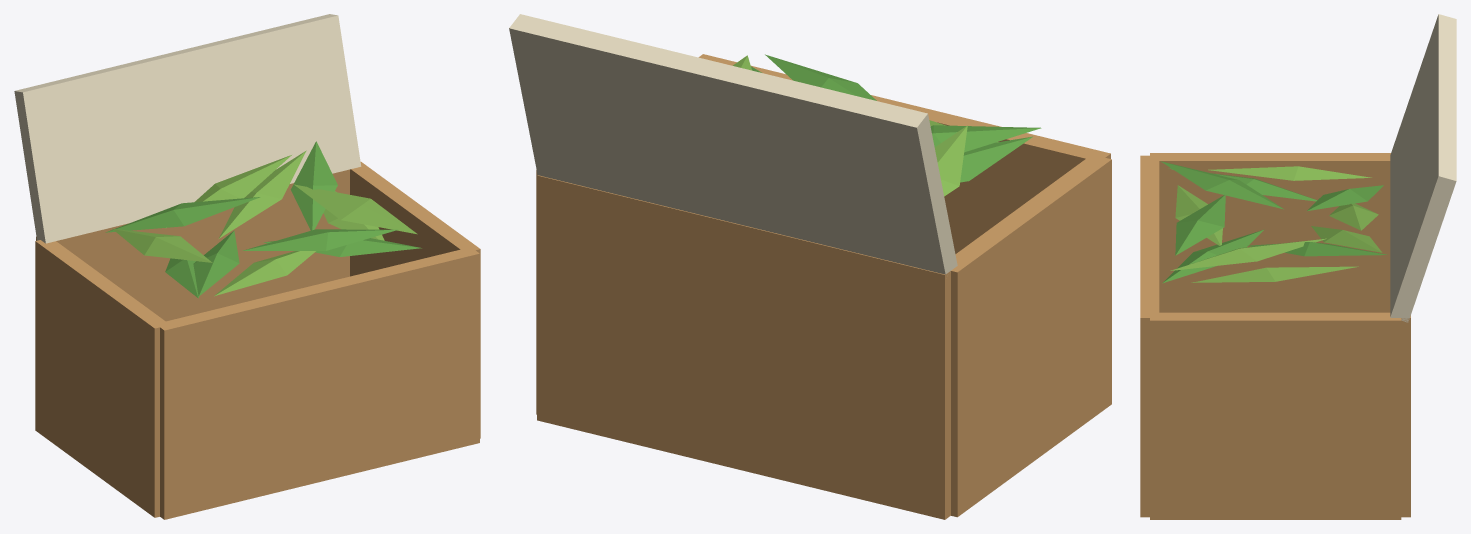
The model's file is tea.glb.
3 renders of one model, left to right at view 1: azimuth 30°, elevation 25°; view 2: azimuth 150°, elevation 25°; view 3: azimuth 270°, elevation 25°, orthographic. The views are drawn at different scales.
Parts seen in each view (by area): view 1: tea; view 2: tea; view 3: tea.
Boxes of the visible parts, box(x1,y1,x2,y2) form: tea: box(14, 14, 480, 519); tea: box(509, 14, 1111, 519); tea: box(1140, 14, 1456, 519).
Size of the model in its own units: 0.126 by 0.1197 by 0.1005.
